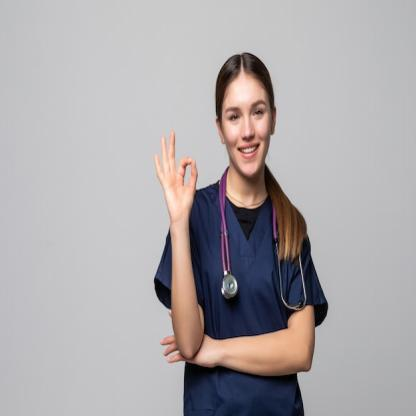ok: (152, 127, 200, 223)
